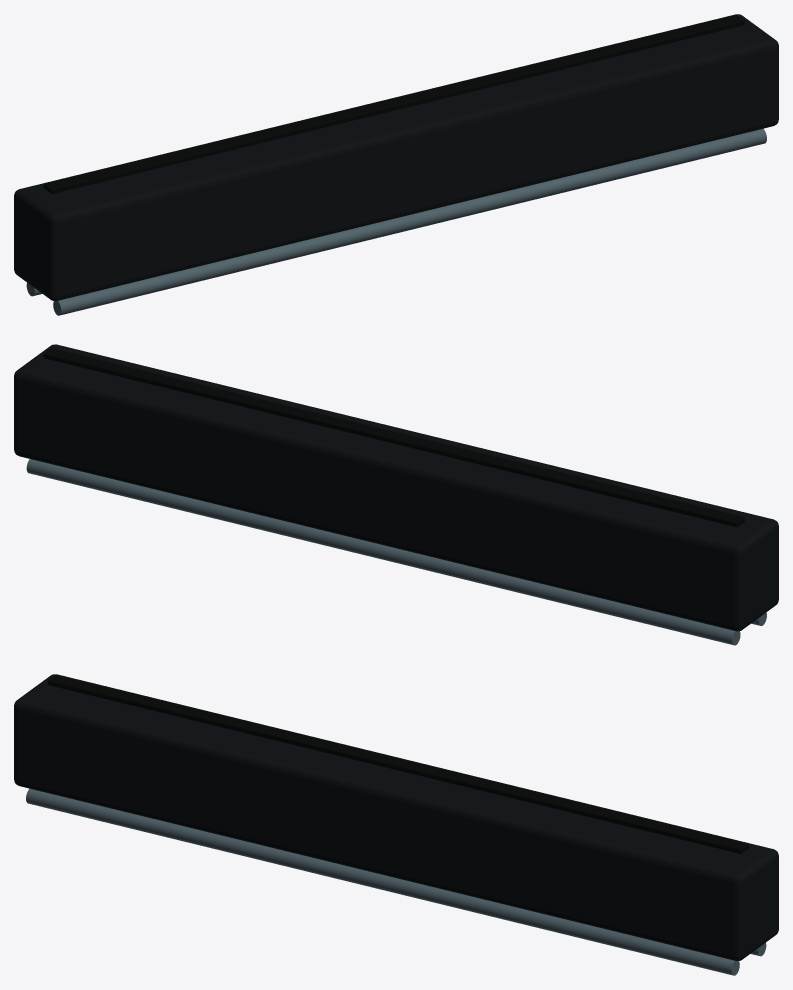
Rendered from gantry_y.obj.
3 renders of one model, top to bottom at view 1: azimuth 30°, elevation 25°; view 2: azimuth 150°, elevation 25°; view 3: azimuth 330°, elevation 25°, orthographic.
Parts seen in each view (by area): view 1: flex__gantry_y__beam, flex__gantry_y__x_rail.001, flex__gantry_y__belt; view 2: flex__gantry_y__beam, flex__gantry_y__x_rail, flex__gantry_y__belt; view 3: flex__gantry_y__beam, flex__gantry_y__x_rail.001, flex__gantry_y__belt.
Part boxes in pixels (x1=…): flex__gantry_y__beam: x1=14, y1=14, x2=778, y2=300; flex__gantry_y__x_rail.001: x1=53, y1=128, x2=766, y2=315; flex__gantry_y__belt: x1=43, y1=15, x2=744, y2=193; flex__gantry_y__beam: x1=14, y1=344, x2=778, y2=631; flex__gantry_y__x_rail: x1=26, y1=459, x2=740, y2=645; flex__gantry_y__belt: x1=43, y1=348, x2=744, y2=527; flex__gantry_y__beam: x1=14, y1=674, x2=778, y2=960; flex__gantry_y__x_rail.001: x1=26, y1=788, x2=739, y2=975; flex__gantry_y__belt: x1=48, y1=675, x2=749, y2=853.
Size of the model in its own units: 0.62 by 0.094 by 0.06.
